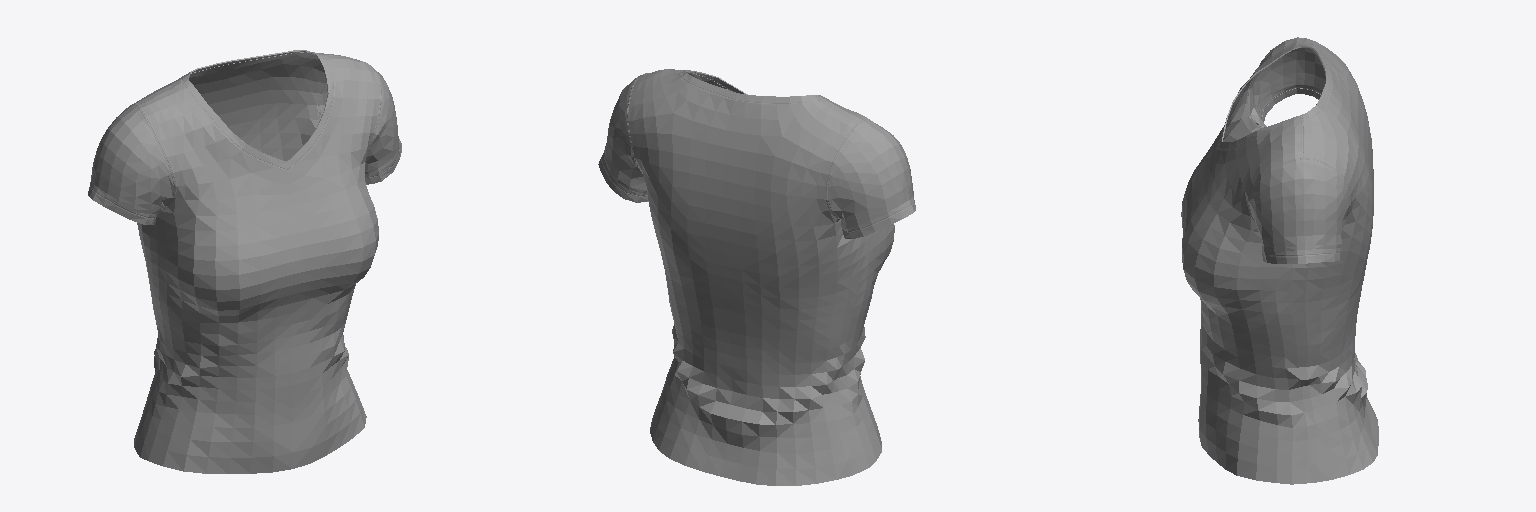
File: t-shirts-w.obj
The picture shows the model from 3 angles: view 1: azimuth 30°, elevation 25°; view 2: azimuth 150°, elevation 25°; view 3: azimuth 270°, elevation 25°; orthographic projection.
Visible parts, largest first — view 1: T_Shirt_female; view 2: T_Shirt_female; view 3: T_Shirt_female.
Boxes of the visible parts, x1,y1,x2,y2 form: T_Shirt_female: [88, 50, 401, 473]; T_Shirt_female: [598, 69, 915, 485]; T_Shirt_female: [1181, 37, 1378, 484].
Bounding box in the file's own units: 39.5 × 44.86 × 21.8.